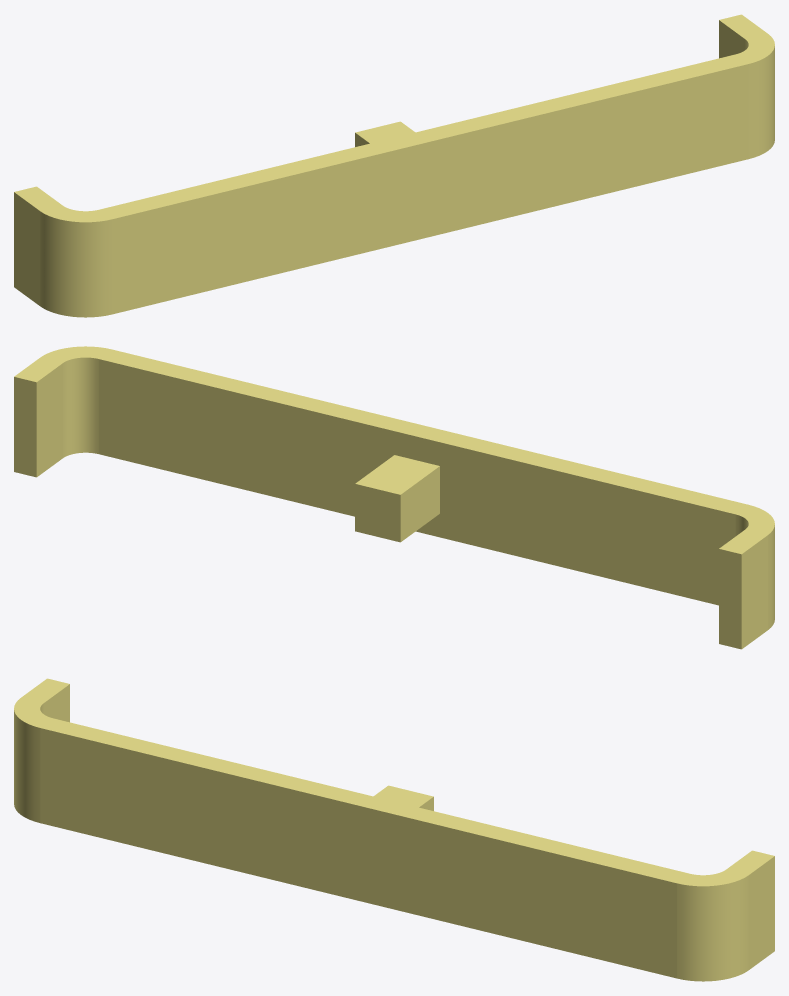
File: original-11.obj
3 renders of one model, top to bottom at view 1: azimuth 30°, elevation 25°; view 2: azimuth 150°, elevation 25°; view 3: azimuth 330°, elevation 25°, orthographic.
Parts seen in each view (by area): view 1: Component1/Component/mesh15/mesh15-geometry#mesh15-geometry; view 2: Component1/Component/mesh15/mesh15-geometry#mesh15-geometry; view 3: Component1/Component/mesh15/mesh15-geometry#mesh15-geometry.
Boxes of the visible parts, left/top/right/bottom form: Component1/Component/mesh15/mesh15-geometry#mesh15-geometry: left=14, top=14, right=774, bottom=317; Component1/Component/mesh15/mesh15-geometry#mesh15-geometry: left=14, top=346, right=774, bottom=649; Component1/Component/mesh15/mesh15-geometry#mesh15-geometry: left=14, top=678, right=774, bottom=981.
Size of the model in its own units: 0.3464 by 0.0433 by 0.0433.
